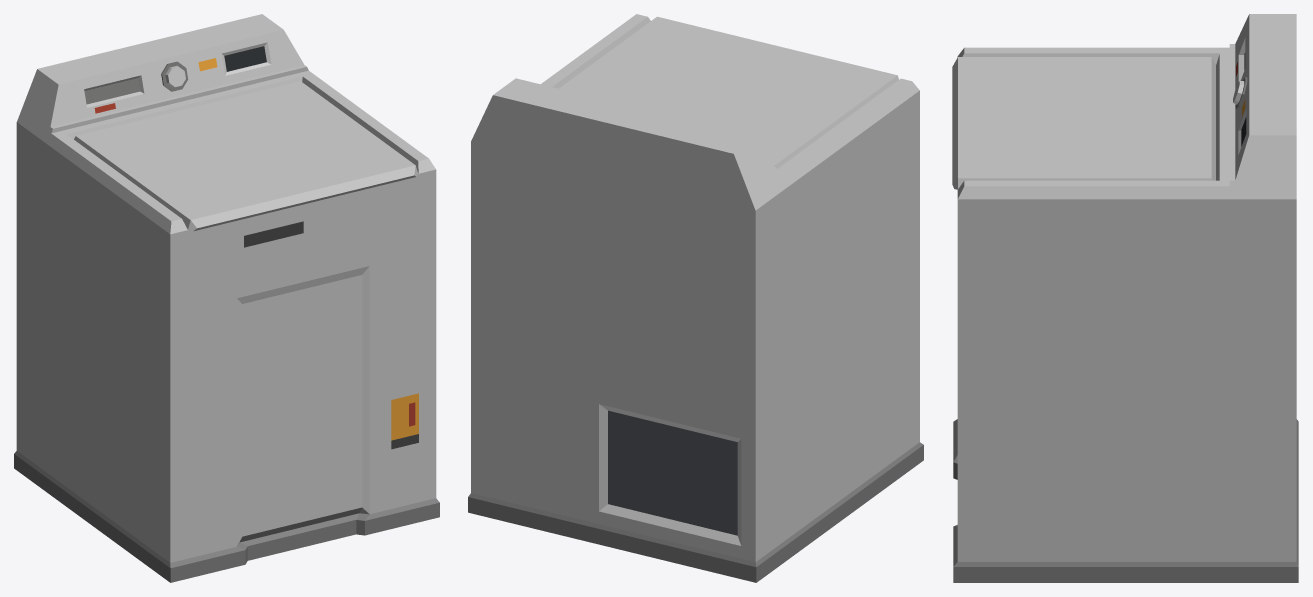
The model's file is SM_Prop_Laundry_WasherTop_01.fbx.
The picture shows the model from 3 angles, left to right: view 1: azimuth 30°, elevation 25°; view 2: azimuth 150°, elevation 25°; view 3: azimuth 270°, elevation 25°; orthographic projection. The views are drawn at different scales.
Visible parts, largest first — view 1: SM_Prop_Laundry_WasherTop_01, SM_Prop_Laundry_WasherTop_Lid_01; view 2: SM_Prop_Laundry_WasherTop_01, SM_Prop_Laundry_WasherTop_Lid_01; view 3: SM_Prop_Laundry_WasherTop_01, SM_Prop_Laundry_WasherTop_Lid_01.
Part boxes in pixels (x1=…): SM_Prop_Laundry_WasherTop_01: x1=14, y1=14, x2=439, y2=582; SM_Prop_Laundry_WasherTop_Lid_01: x1=74, y1=81, x2=418, y2=231; SM_Prop_Laundry_WasherTop_01: x1=468, y1=14, x2=923, y2=582; SM_Prop_Laundry_WasherTop_Lid_01: x1=559, y1=16, x2=898, y2=168; SM_Prop_Laundry_WasherTop_01: x1=953, y1=14, x2=1298, y2=582; SM_Prop_Laundry_WasherTop_Lid_01: x1=952, y1=57, x2=1215, y2=189.
Size of the model in its own units: 101 by 142 by 102.
